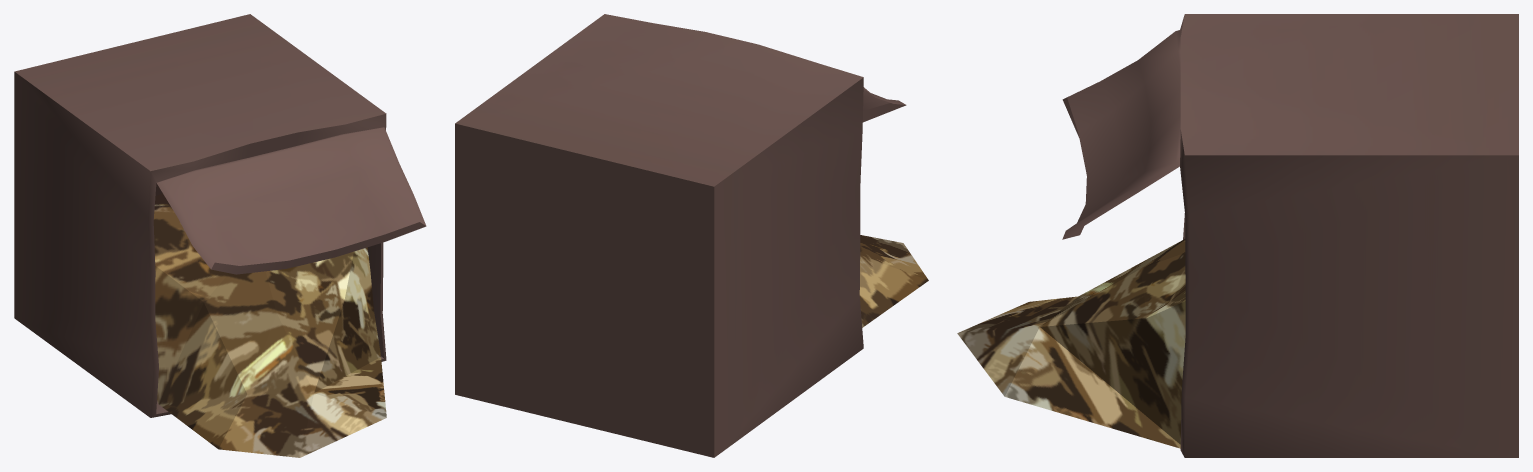
File: Trash_012.fbx
3 views of the same model, side by side, from view 1: azimuth 30°, elevation 25°; view 2: azimuth 150°, elevation 25°; view 3: azimuth 270°, elevation 25° (orthographic). The views are drawn at different scales.
Visible parts, largest first — view 1: Trash_012; view 2: Trash_012; view 3: Trash_012.
Boxes of the visible parts, left/top/right/bottom form: Trash_012: left=14, top=14, right=426, bottom=457; Trash_012: left=455, top=14, right=928, bottom=457; Trash_012: left=957, top=14, right=1518, bottom=457.
Size of the model in its own units: 40.24 by 67.25 by 41.56.
